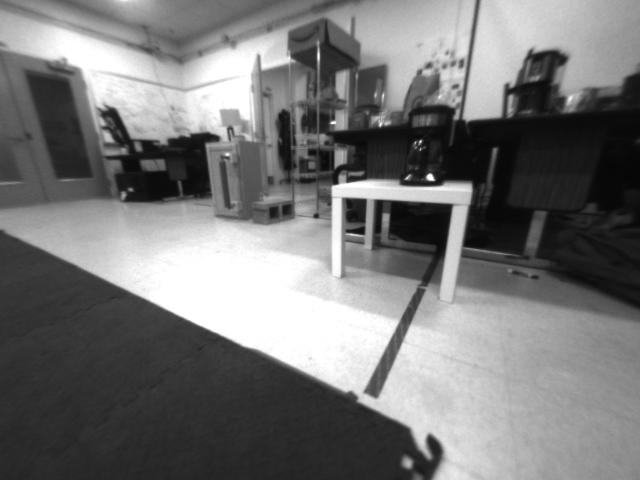coffee_pot: (399, 103, 452, 190)
